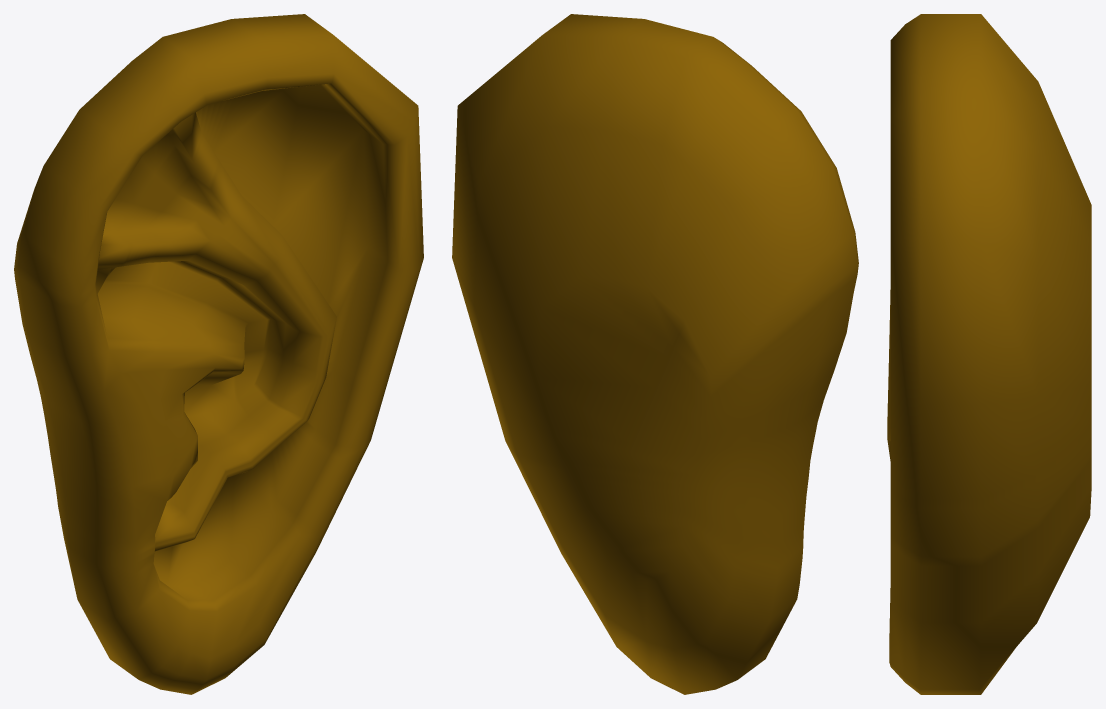
File: Ear.fbx
3 views of the same model, side by side, from view 1: azimuth 30°, elevation 25°; view 2: azimuth 150°, elevation 25°; view 3: azimuth 270°, elevation 25° (orthographic). The views are drawn at different scales.
Parts seen in each view (by area): view 1: Cube; view 2: Cube; view 3: Cube.
Part boxes in pixels (bbox=[...]): Cube: bbox=[14, 14, 423, 694]; Cube: bbox=[452, 14, 858, 694]; Cube: bbox=[887, 14, 1091, 694].
Size of the model in its own units: 154 by 249 by 68.54.
1 material, 1 textured.
